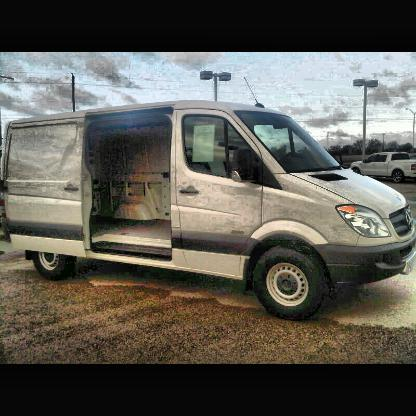Mercedes-Benz Sprinter Van 2012: (2, 77, 416, 318)
